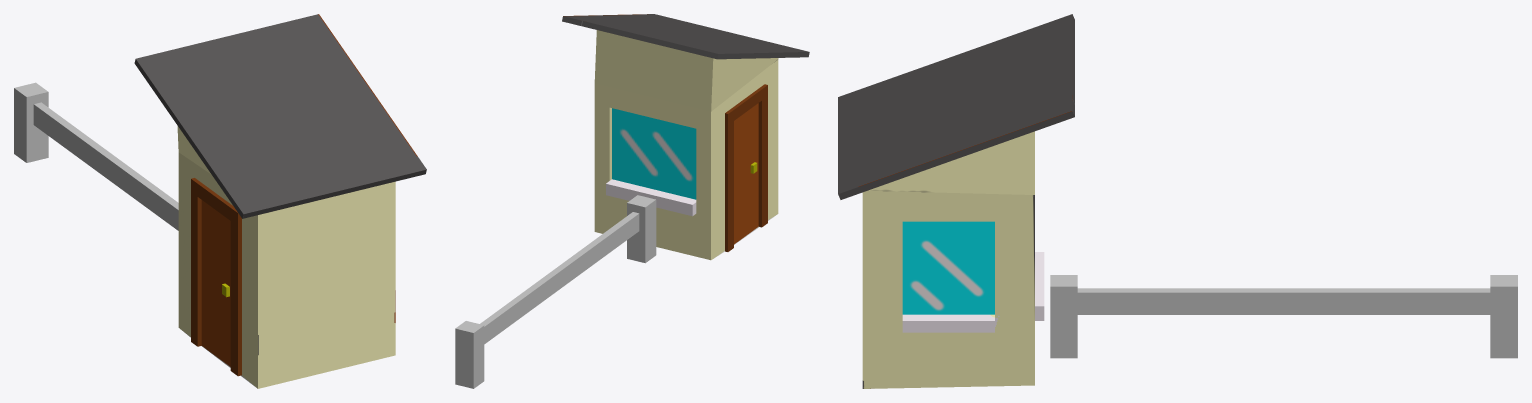
The model's file is Outpost.fbx.
3 views of the same model, side by side, from view 1: azimuth 30°, elevation 25°; view 2: azimuth 150°, elevation 25°; view 3: azimuth 270°, elevation 25° (orthographic). The views are drawn at different scales.
Visible parts, largest first — view 1: Building, Fence; view 2: Building, Fence; view 3: Building, Fence.
Boxes of the visible parts, <box> form: Building: <box>134,14,426,388</box>; Fence: <box>14,82,178,230</box>; Building: <box>562,14,809,260</box>; Fence: <box>455,195,656,388</box>; Building: <box>838,14,1074,388</box>; Fence: <box>1050,275,1517,358</box>.
Size of the model in its own units: 800 by 1108 by 2366.
